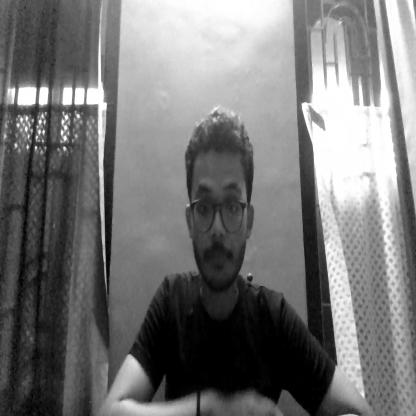Normal: (184, 94, 258, 328)
